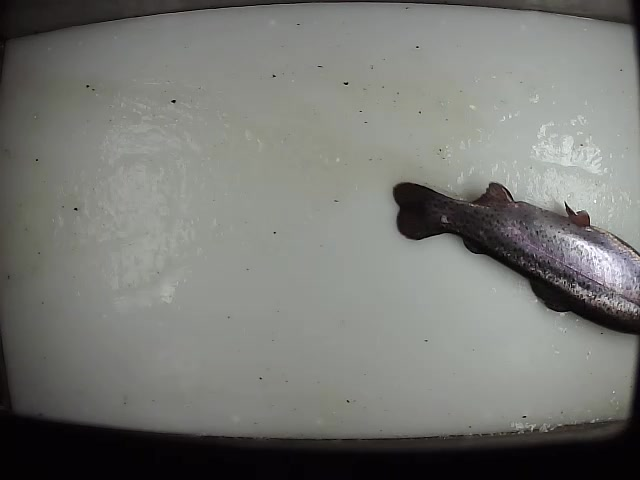fish: (388, 178, 640, 336)
